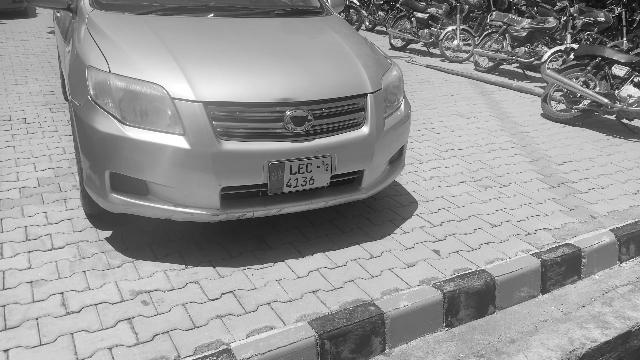Number: (284, 160, 316, 191)
